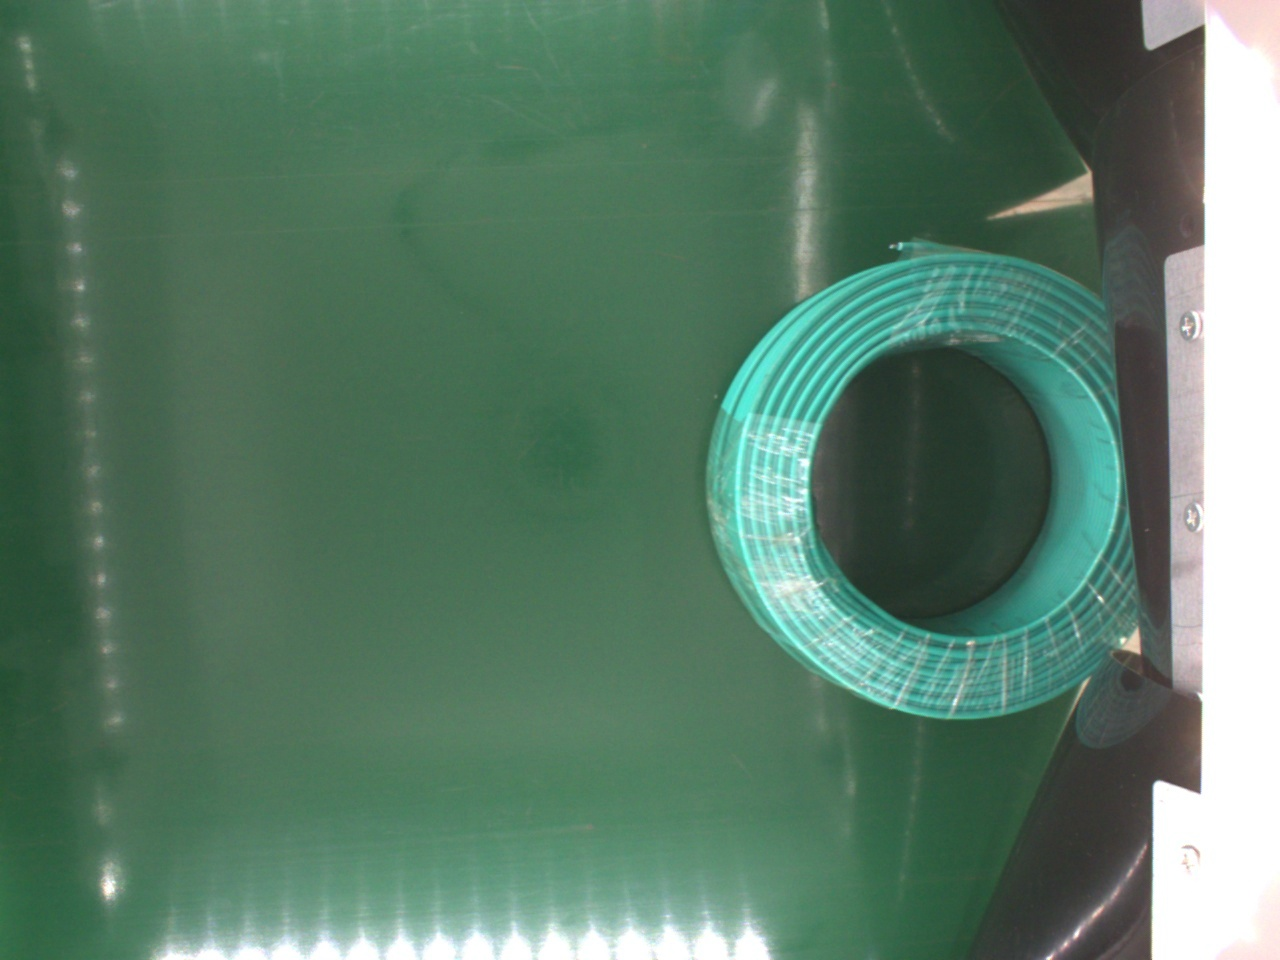green: (710, 238, 1140, 729)
